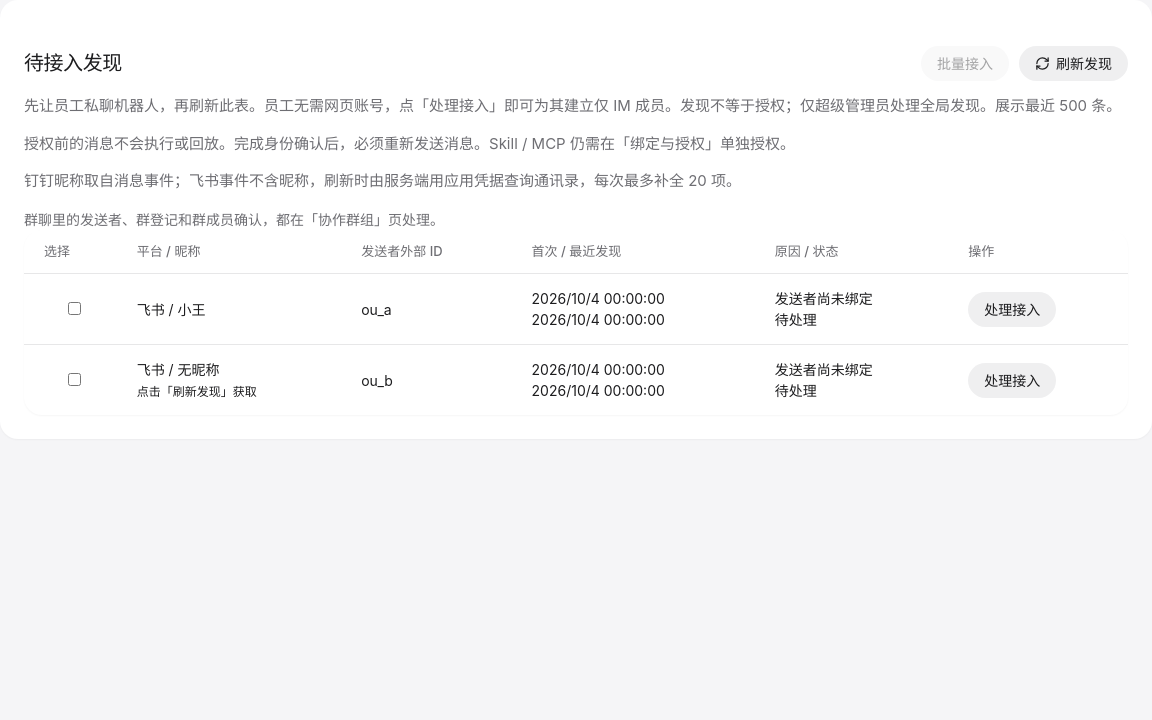
Scenario: onboards the picked senders together, keeps failures for a retry, and closes when everyone is in
The image size is (1152, 720).
Click the checkbox named "选择 小王" at (74, 308), box [48,302,101,314]
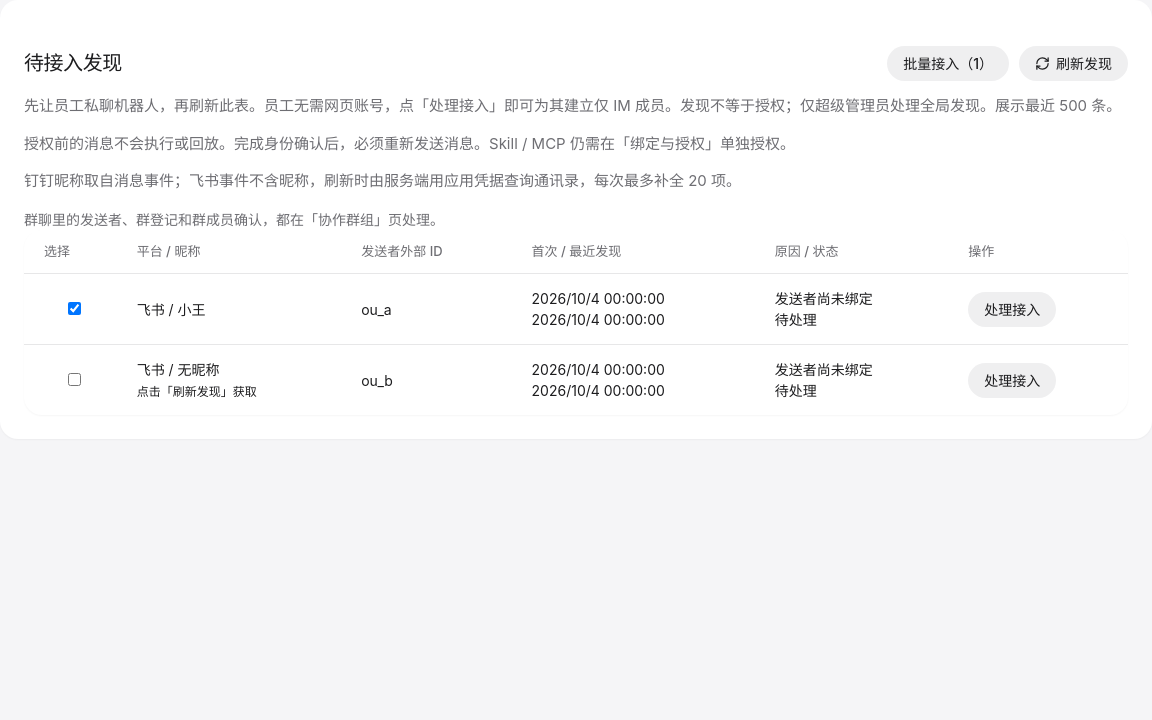
Click the checkbox named "选择 ou_b" at (74, 379), box [48,372,101,386]
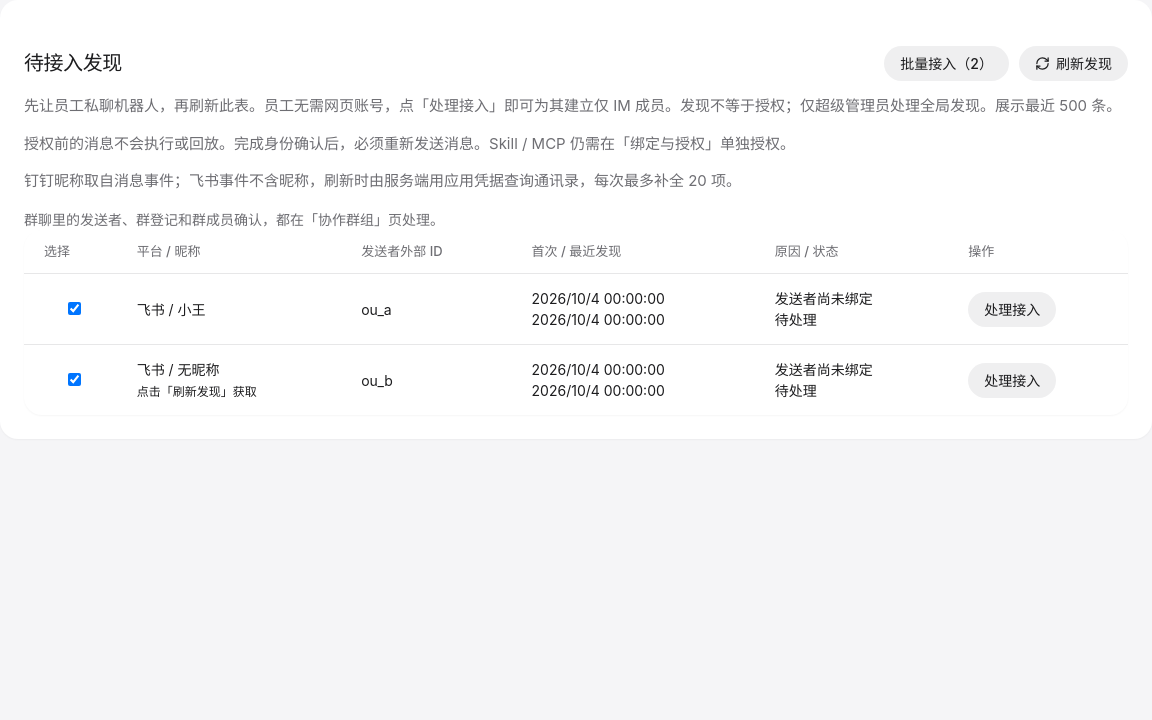
Click the button "批量接入（2）" at (947, 64), box [884,46,1009,81]
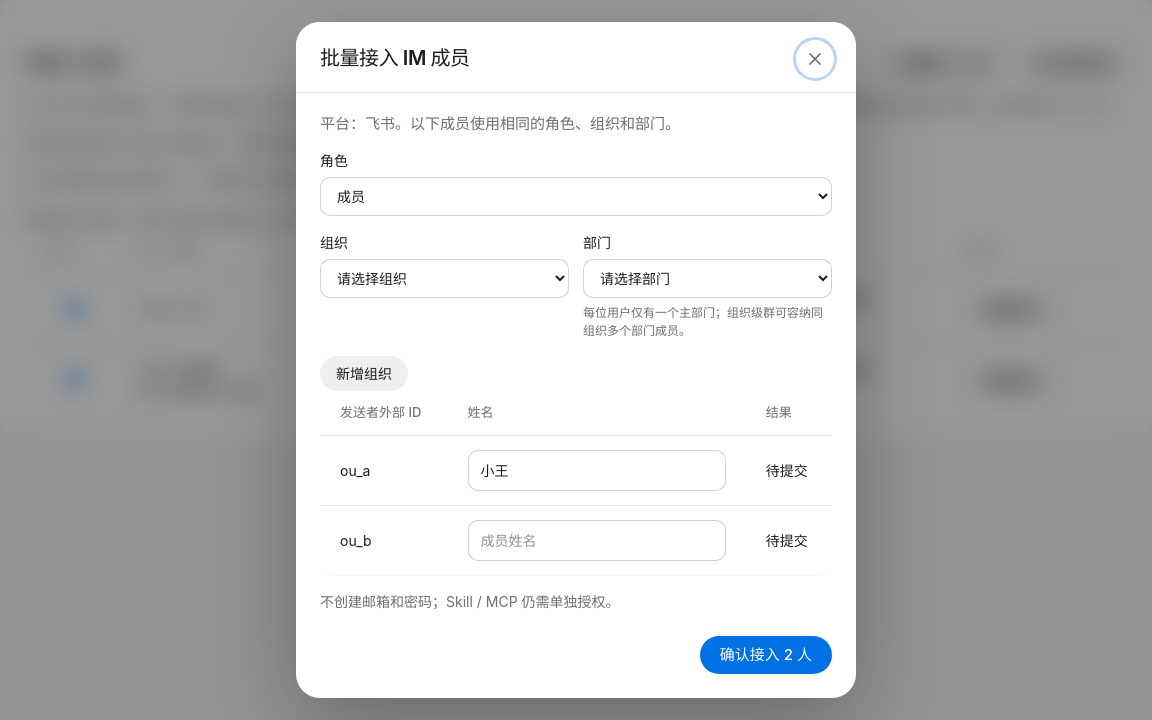
Now the text "平台：飞书。以下成员使用相同的角色、组织和部门。" is shown, box [320,114,680,133]
Now the field named "姓名 ou_a" holds "小王", box [468,450,726,491]
Now the field named "姓名 ou_b" is empty, box [468,520,726,561]
Select "运营公司" in the dropdown labelled "组织" at (444, 279), box [320,259,569,298]
Select "广告部" in the dropdown labelled "部门" at (708, 279), box [583,259,832,298]
Type "李四" into the field named "姓名 ou_b" at (597, 540), box [468,520,726,561]
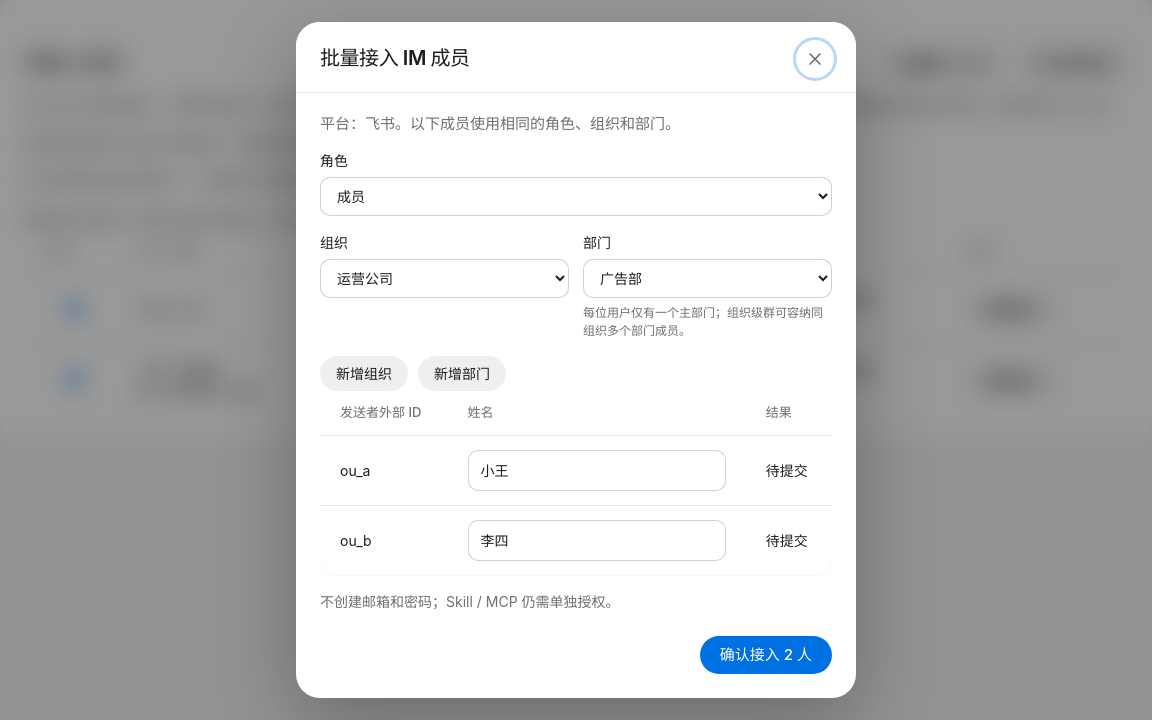
Click the button "确认接入 2 人" at (766, 655), box [700,636,832,674]
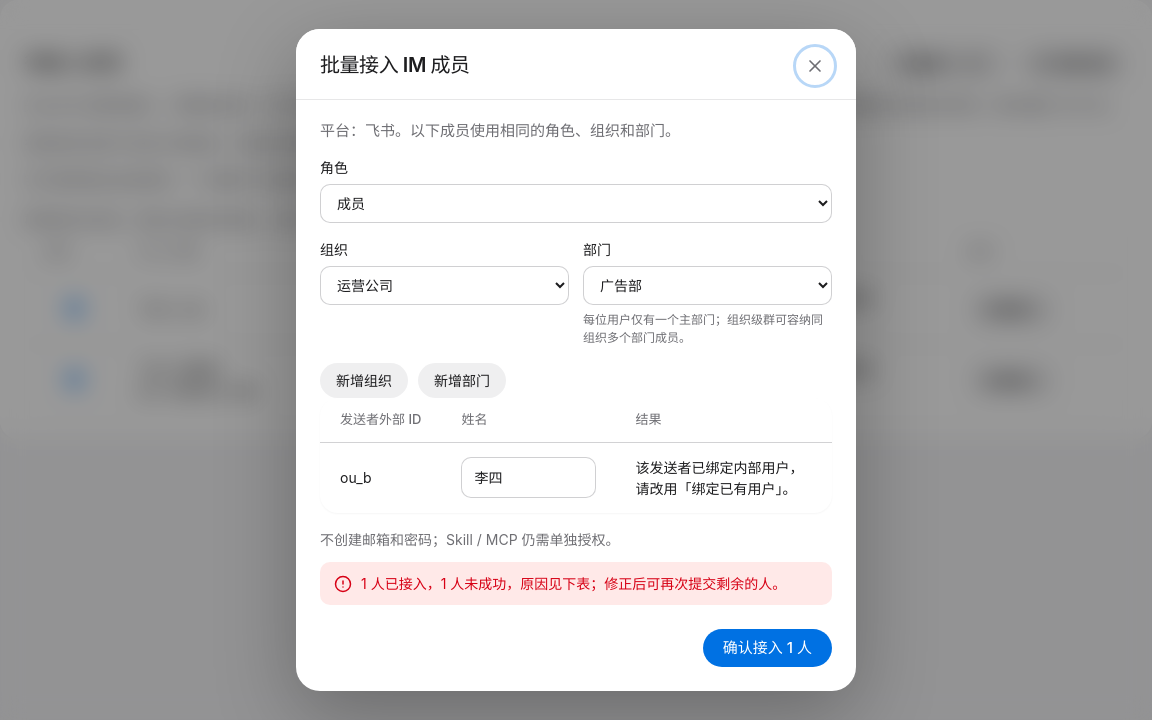
Now the text "1 人已接入，1 人未成功，原因见下表；修正后可再次提交剩余的人。" is shown, box [320,562,832,605]
Now the text "该发送者已绑定内部用户，请改用「绑定已有用户」。" is shown, box [616,442,832,513]
Click the button "确认接入 1 人" at (767, 648), box [703,629,832,667]
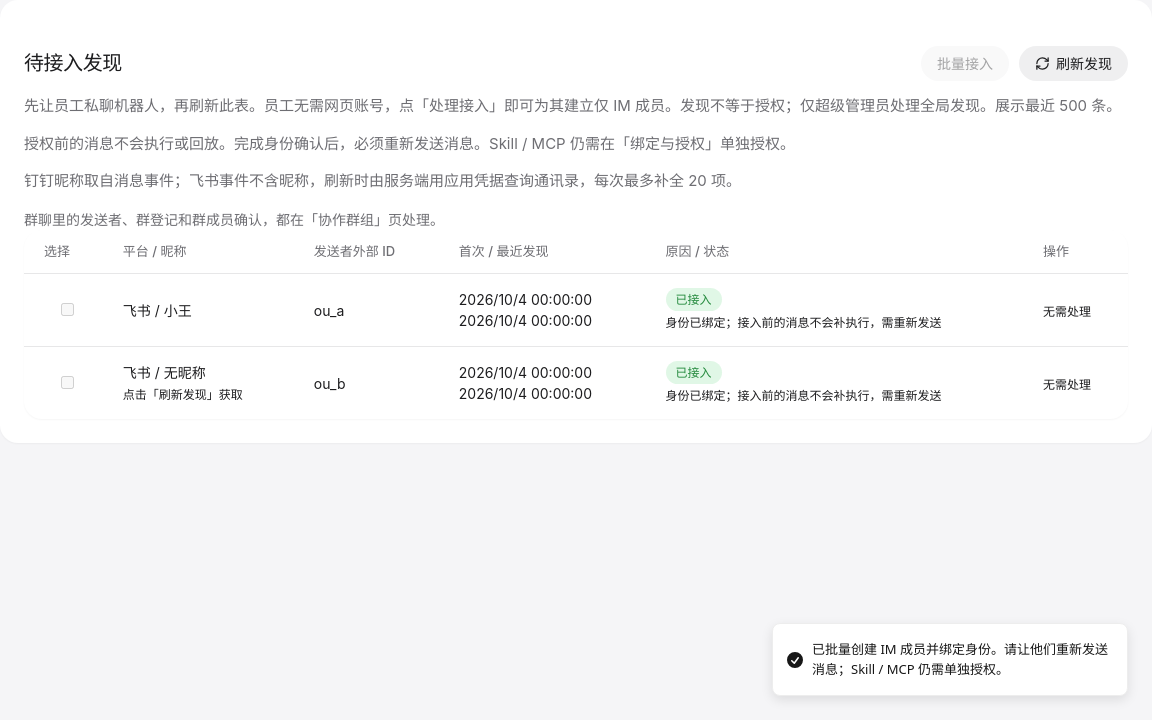
Now the text "已批量创建 IM 成员并绑定身份。请让他们重新发送消息；Skill / MCP 仍需单独授权。" is shown, box [812,640,1111,679]
Now the heading "批量接入 IM 成员" is gone
Now the button "批量接入" is disabled, box [921,46,1009,81]
